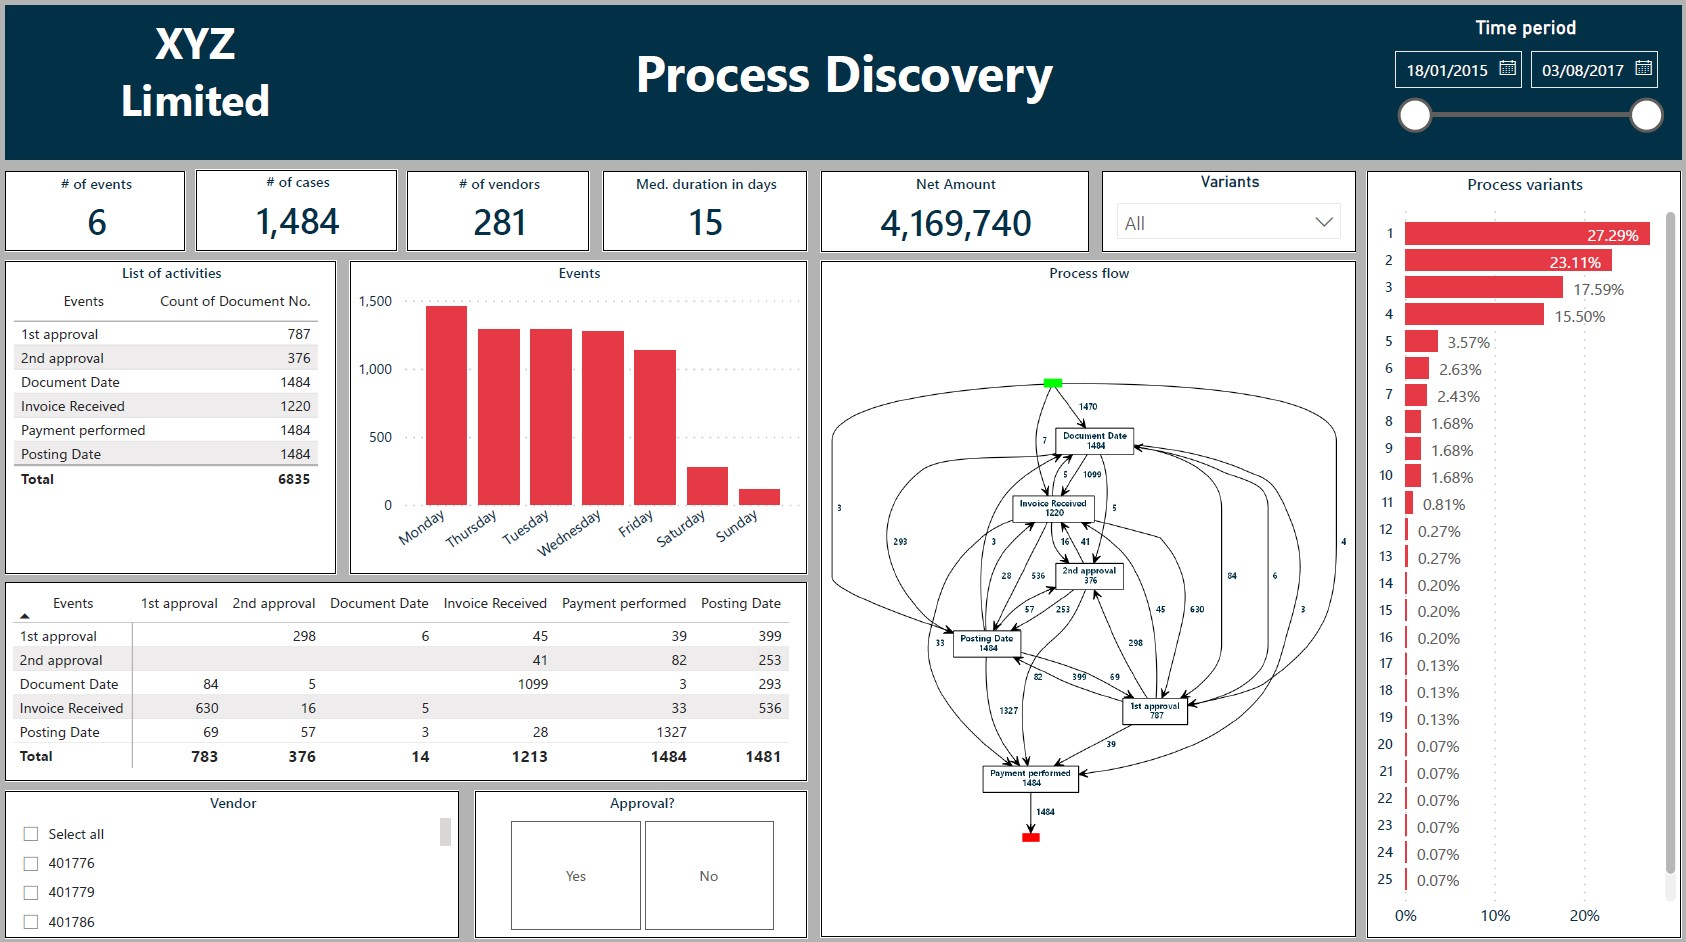

This screenshot's page, from the dashboard's own definition file:
{"tool":"powerbi","page":{"name":"Process Discovery","canvas":[1280,720],"ordinal":2},"visuals":[{"type":"shape","box":[11.7,10.7,1256.7,115.7],"z":0},{"type":"textbox","box":[20.4,10.7,268.2,107.9],"z":1000},{"type":"textbox","box":[469.8,31,341.3,67.2],"z":2000},{"type":"card","title":"# of cases","fields":{"Values":["CountNonNull(Distinct_log.Document No.)"]},"box":[154.5,134.1,151.6,61.2],"z":3000},{"type":"card","title":"# of events","fields":{"Values":["Count(P2P_Final.Events)"]},"box":[11.7,135.1,135.1,60.3],"z":4000},{"type":"card","title":"# of vendors","fields":{"Values":["Count(Distinct_log.Account)"]},"box":[313,135.1,137,60.3],"z":5000},{"type":"card","title":"Net Amount","fields":{"Values":["Sum(Distinct_log.Gross AMount Pos)"]},"box":[623,135.1,201.2,61.2],"z":6000},{"type":"slicer","title":"Time period","fields":{"Values":["P2P_Final.Date"]},"box":[1040.4,19,222.4,91.4],"z":7000},{"type":"slicer","title":"Variants","fields":{"Values":["Distinct_log.Variants"]},"box":[833.9,135.1,190.5,61.2],"z":9000},{"type":"pivotTable","fields":{"Rows":["Process_details.Events"],"Columns":["Process_details.Events_2"],"Values":["CountNonNull(Process_details.Document No.)"]},"box":[11.7,443.2,601.6,148.7],"z":10000},{"type":"pythonVisual","title":"Process flow","fields":{"Values":["P2P_Final.Document No.","P2P_Final.Date","P2P_Final.Events","P2P_Final.Event_ID"]},"box":[622.7,202.4,401.7,506.8],"z":11000},{"type":"barChart","title":"Process variants","fields":{"Category":["Distinct_log.Variants"],"Y":["Sum(Distinct_log.Variants)"]},"box":[1032.2,135.1,236.2,575.4],"z":13000},{"type":"clusteredColumnChart","title":"Events","fields":{"Category":["P2P_Final.Day of week"],"Y":["CountNonNull(P2P_Final.Document No.)"]},"box":[270.2,202.2,343.1,235.2],"z":13001},{"type":"tableEx","title":"List of activities","fields":{"Values":["P2P_Final.Events","P2P_Final.Document No."]},"box":[11.7,202.2,248.8,235.2],"z":13002},{"type":"card","title":"Med. duration in days","fields":{"Values":["Median(Distinct_log.Duration in days)"]},"box":[459.7,135.1,153.6,60.3],"z":13003},{"type":"slicer","title":"Vendor","fields":{"Values":["Distinct_log.Account"]},"box":[11.7,598.7,340.2,111.8],"z":13004},{"type":"slicer","title":"Approval?","fields":{"Values":["Event_duration.No_approval"]},"box":[364.5,598.7,248.8,111.8],"z":13005}]}

Visuals, with their boxes in screenshot pixels (x1, y1, x2, y2), scaled from the page's 1280x720 canvas onto the 1686x942 screenshot:
shape: 15,14,1671,165
textbox: 27,14,380,155
textbox: 619,41,1068,128
"# of cases" card: 204,175,403,256
"# of events" card: 15,177,193,256
"# of vendors" card: 412,177,593,256
"Net Amount" card: 821,177,1086,257
"Time period" slicer: 1370,25,1663,144
"Variants" slicer: 1098,177,1349,257
pivotTable - Process_details.Events x Process_details.Events_2: 15,580,808,774
"Process flow" pythonVisual: 820,265,1349,928
"Process variants" barChart: 1360,177,1671,930
"Events" clusteredColumnChart: 356,265,808,572
"List of activities" tableEx: 15,265,343,572
"Med. duration in days" card: 606,177,808,256
"Vendor" slicer: 15,783,464,930
"Approval?" slicer: 480,783,808,930
